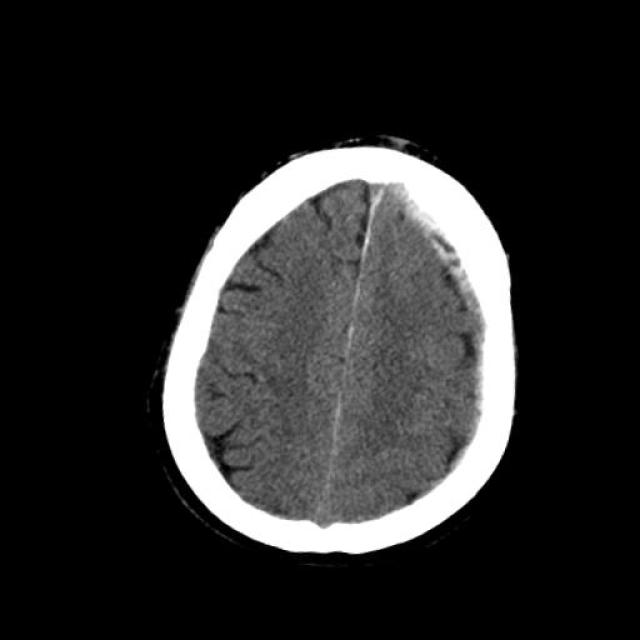Subdural: (374, 179, 534, 363)
